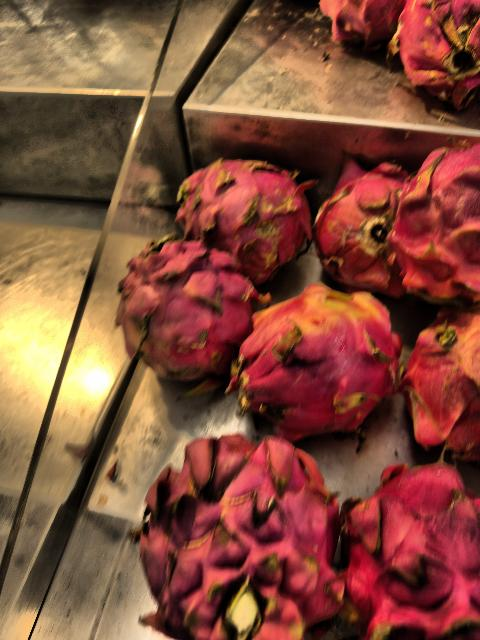buah-naga-belum-matang: (222, 273, 404, 431), (412, 302, 480, 440)
buah-naga-matang: (134, 438, 354, 640), (340, 431, 480, 637), (104, 238, 256, 380), (398, 128, 480, 306), (186, 158, 314, 264), (312, 156, 410, 284), (386, 0, 480, 96)
